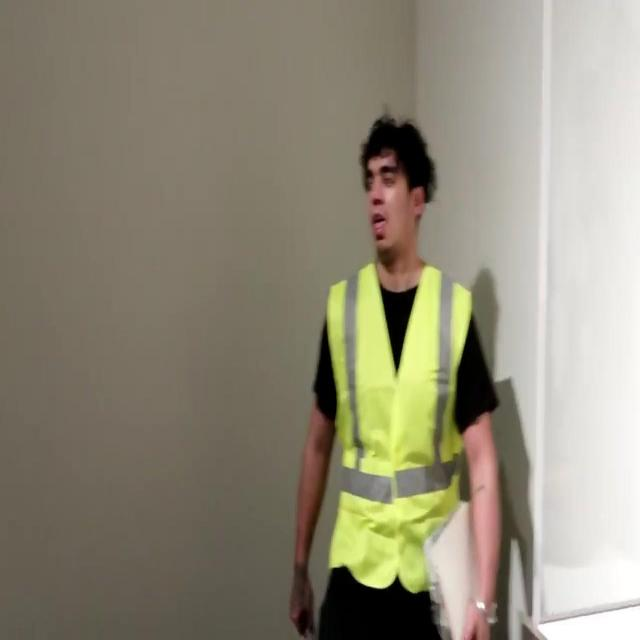con_chaleco: (324, 265, 474, 594)
